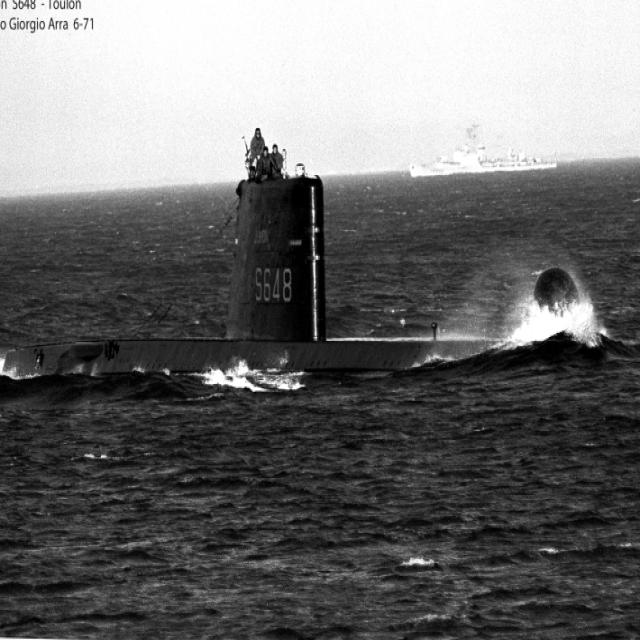submarine: (1, 154, 569, 385)
